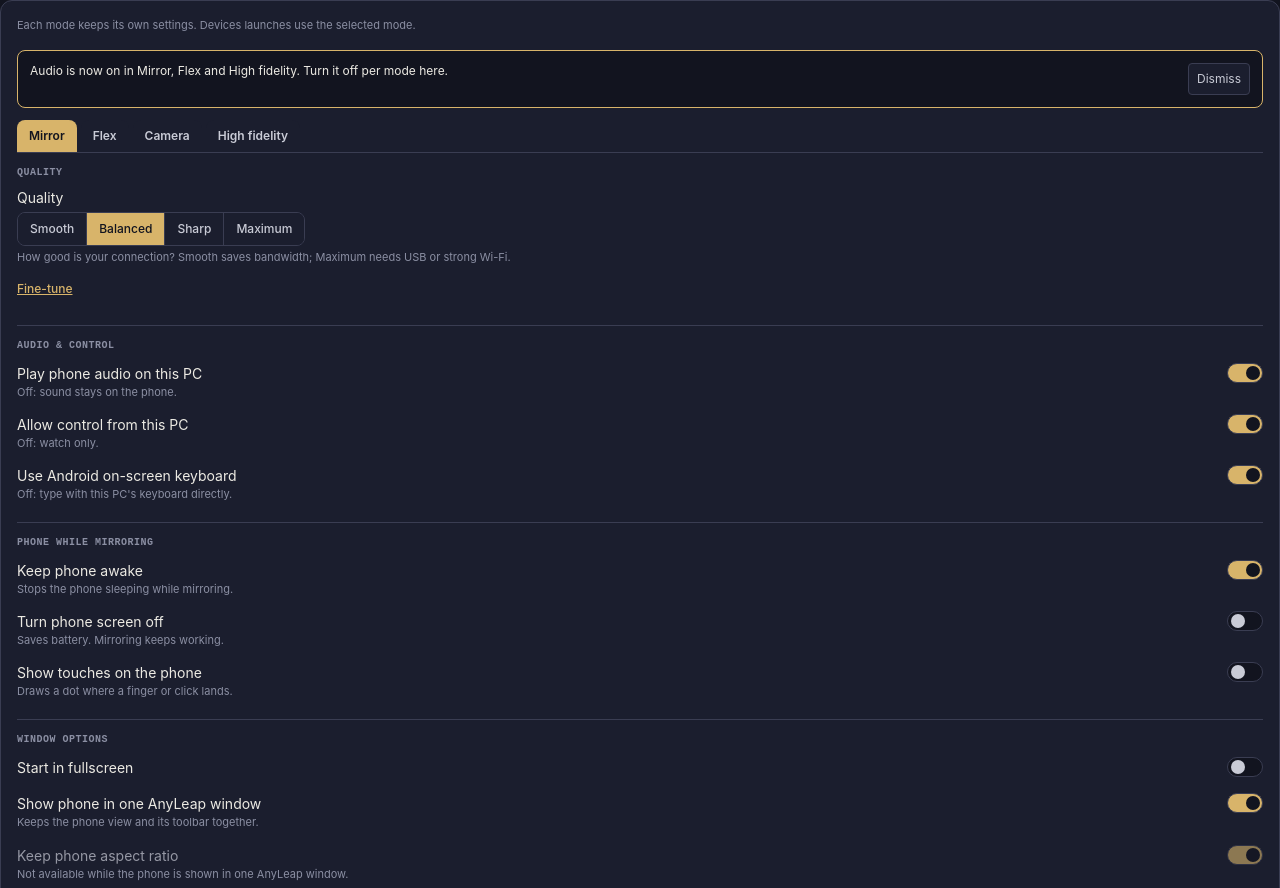
PhoneMirroringSection › shows the one-time audio notice and dismiss clears it
Click the button "Dismiss" at (1219, 78), box [1188, 62, 1250, 94]
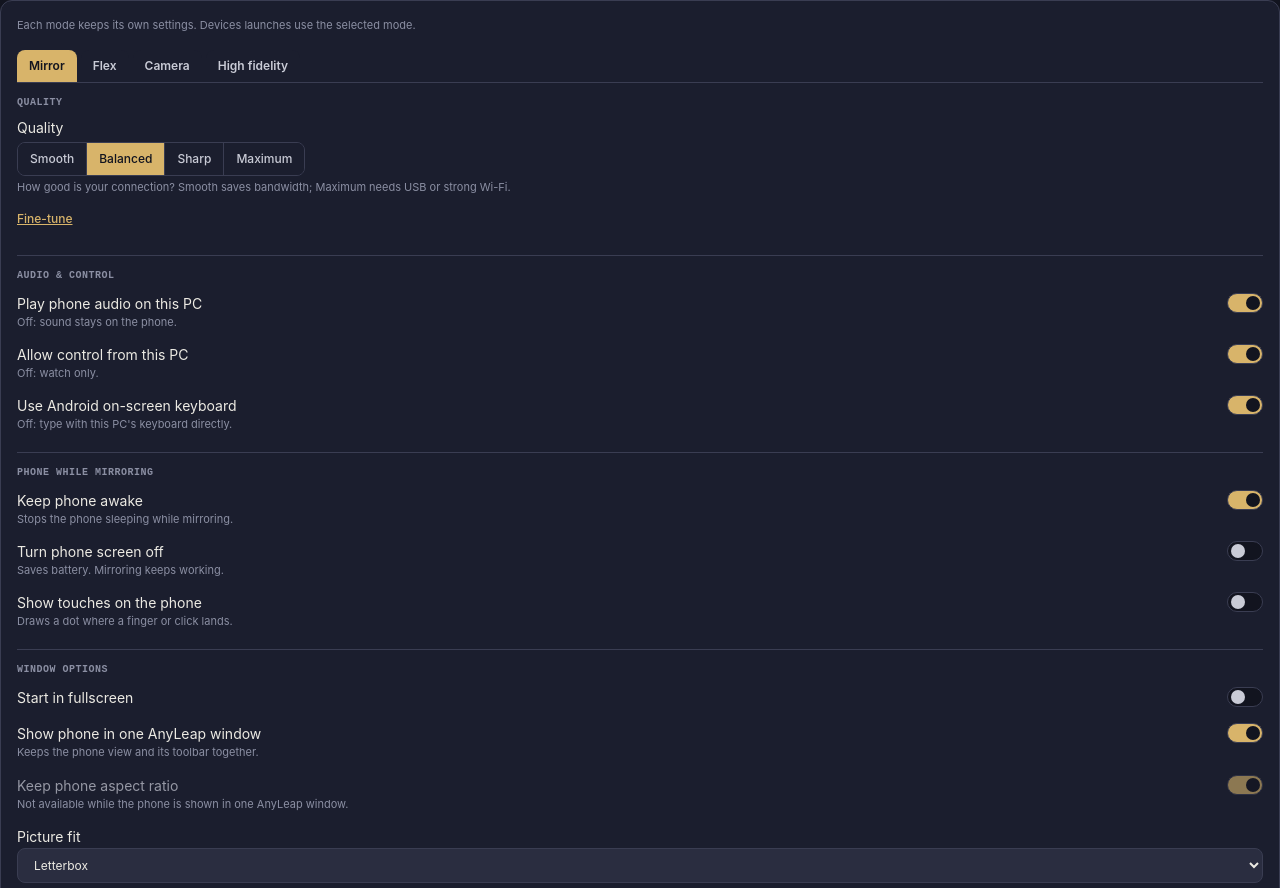
Result: the text "Audio is now on" is gone
